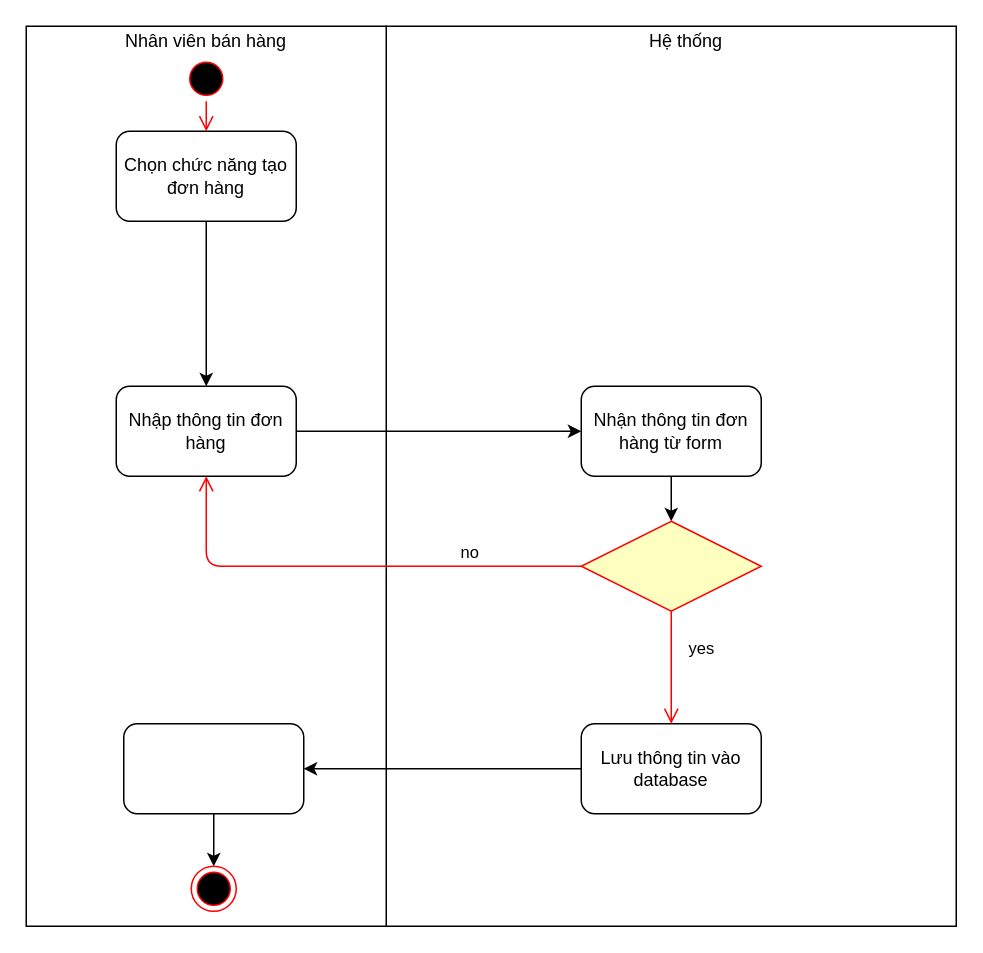
Image size: 983x953. Some labels were removed from this diagram. Here are the shapes that lost their labels. From the top down, the box of each, then its label:
(580, 520, 761, 611): Kiểm tra form hợp lệ
(122, 722, 304, 814): Hiển thị thông báo thành công
